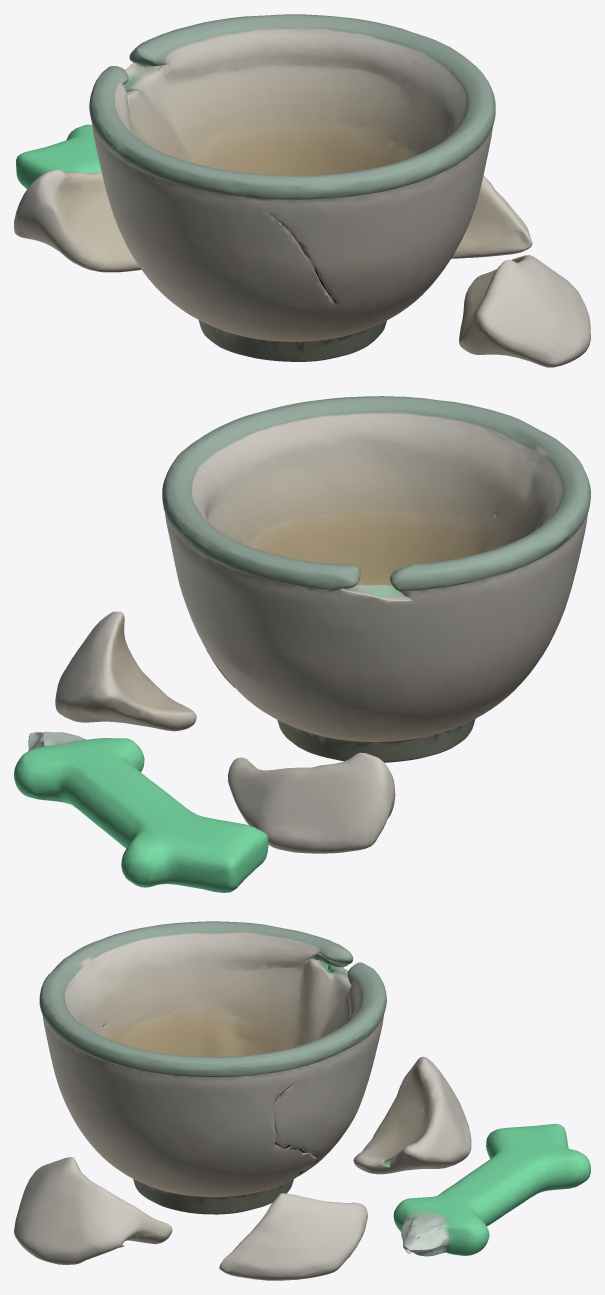
File: discovery-recurve-v2.glb
3 views of the same model, one above another, from view 1: azimuth 30°, elevation 25°; view 2: azimuth 150°, elevation 25°; view 3: azimuth 270°, elevation 25° (orthographic). The views are drawn at different scales.
Parts seen in each view (by area): view 1: tripo_node_cdb2b430-4f3d-475a-8ca3-a411f533a53e; view 2: tripo_node_cdb2b430-4f3d-475a-8ca3-a411f533a53e; view 3: tripo_node_cdb2b430-4f3d-475a-8ca3-a411f533a53e.
Boxes of the visible parts, bbox=[...] form: tripo_node_cdb2b430-4f3d-475a-8ca3-a411f533a53e: bbox=[14, 14, 590, 367]; tripo_node_cdb2b430-4f3d-475a-8ca3-a411f533a53e: bbox=[14, 396, 590, 892]; tripo_node_cdb2b430-4f3d-475a-8ca3-a411f533a53e: bbox=[14, 921, 590, 1280].
Bounding box in the file's own units: 0.729 × 0.3702 × 1.
1 material, 1 textured.
